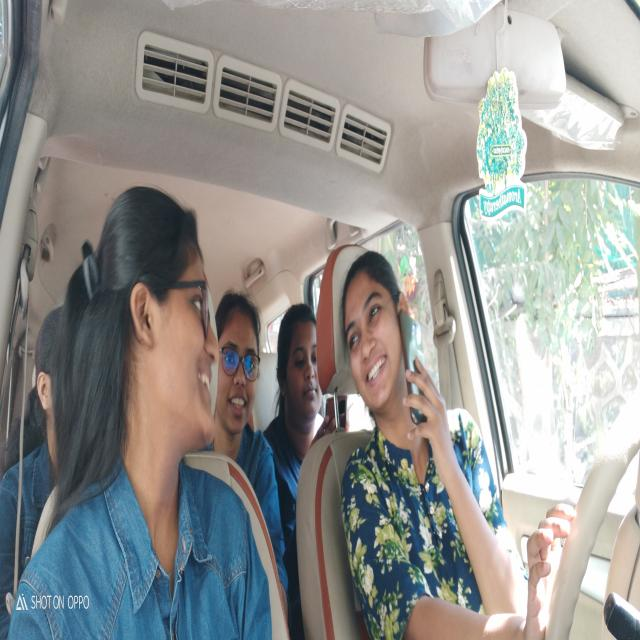mobile: (394, 294, 439, 438)
person: (137, 192, 229, 463), (333, 247, 412, 428), (213, 268, 266, 444), (275, 296, 328, 444)
